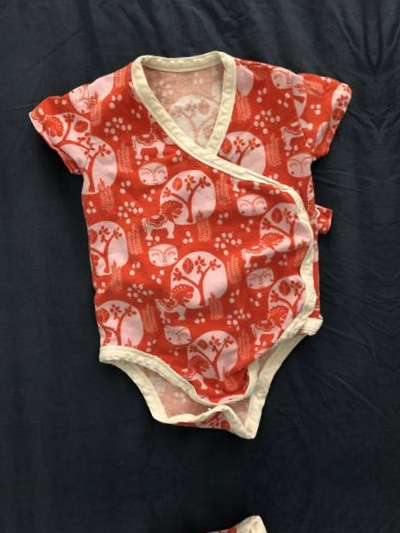Body: (35, 41, 369, 456), (64, 504, 399, 533), (0, 529, 12, 533)
